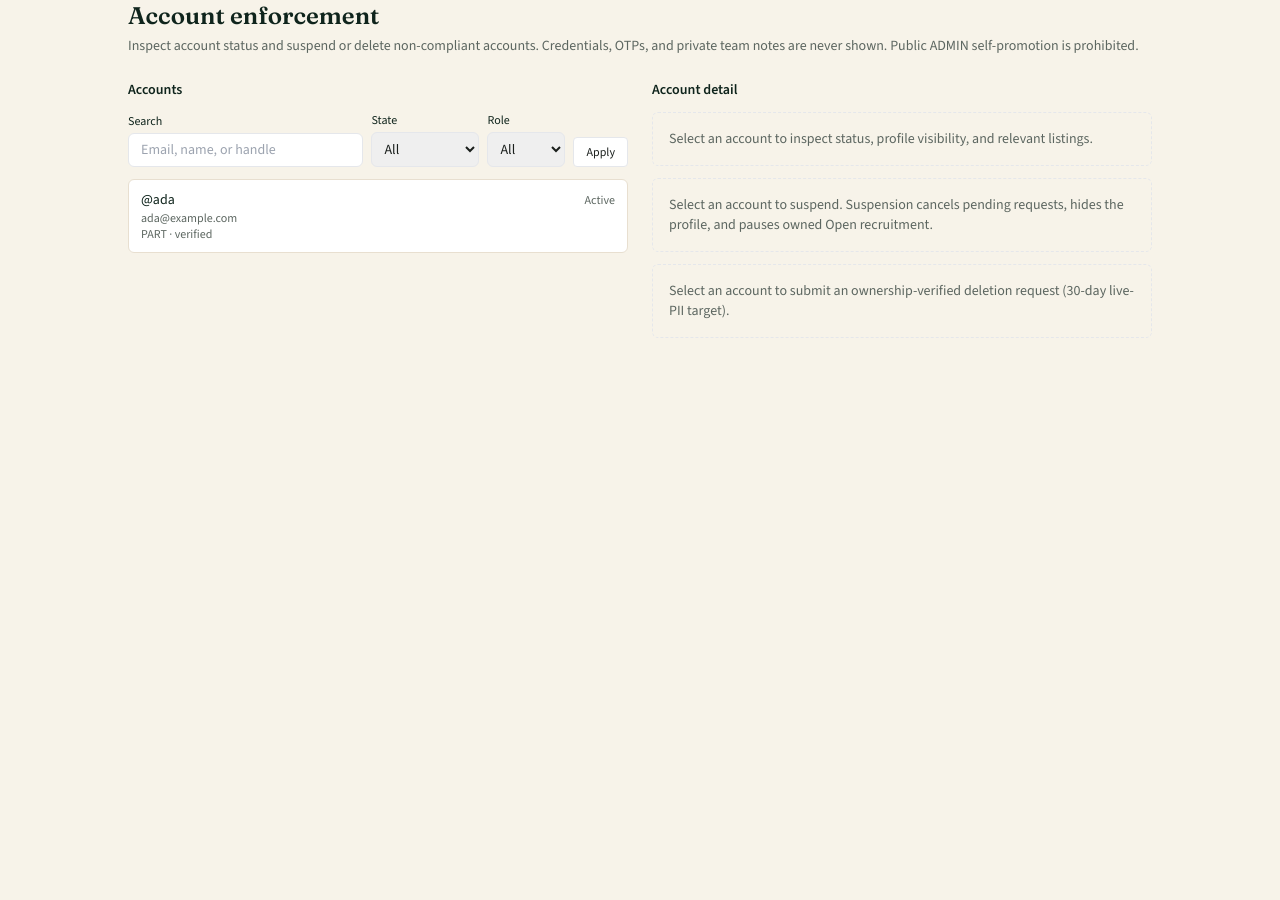
Test case: AccountEnforcementPage (US-027 / #255) › lists accounts and opens detail on select
Expected: the message with test id "account-detail-idle" is shown, left=652, top=112, right=1152, bottom=166
Step 1. Click the button "@ada Active ada@example.com PART · verified" → [158, 200], box left=129, top=180, right=627, bottom=252
(page scrolled)
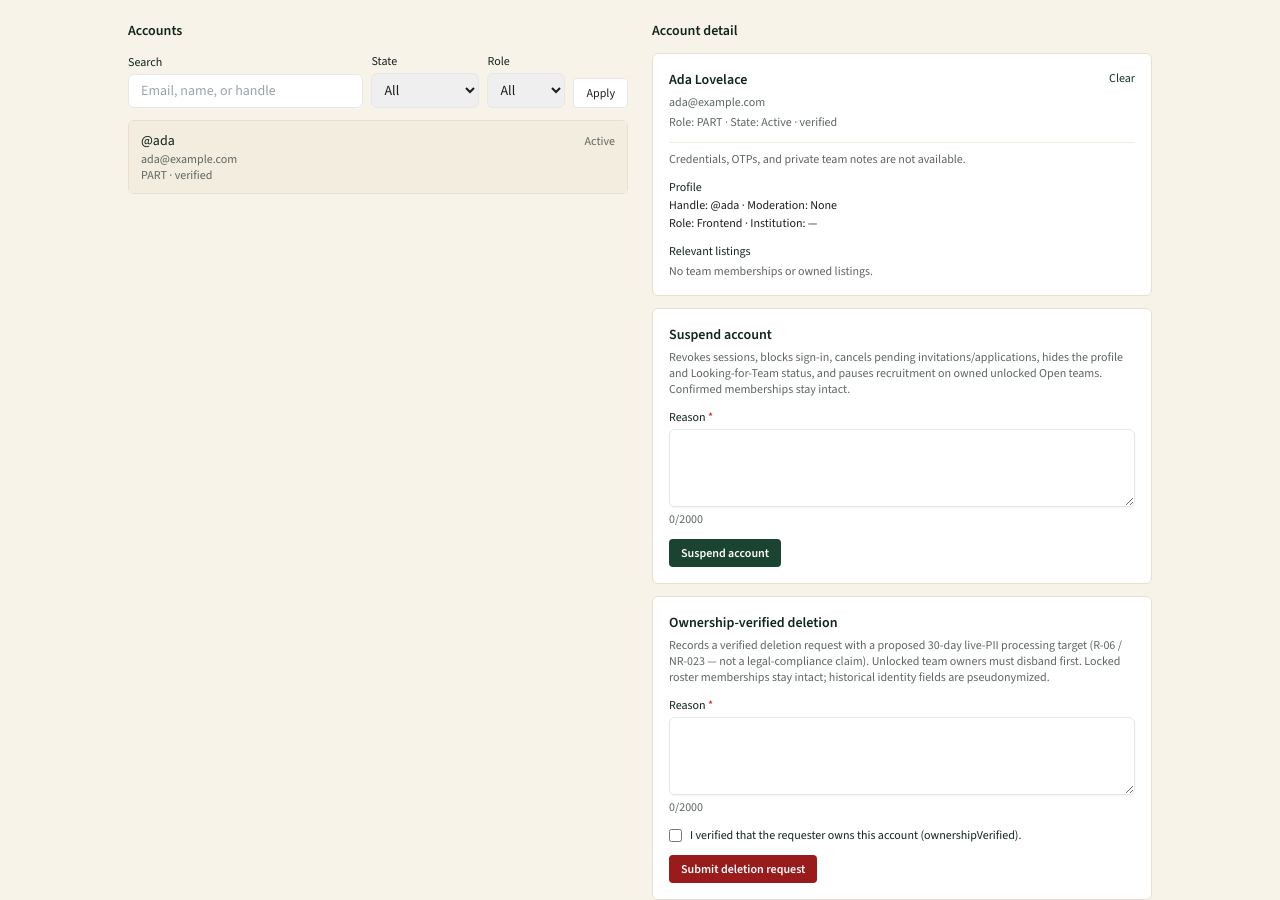
Result: the element with test id "account-detail" is shown at left=652, top=53, right=1152, bottom=296
Result: the text with test id "account-detail-name" reads "Ada Lovelace" at left=669, top=70, right=747, bottom=89
Result: the text with test id "account-privacy-notice" shows "Credentials" at left=669, top=151, right=966, bottom=167
